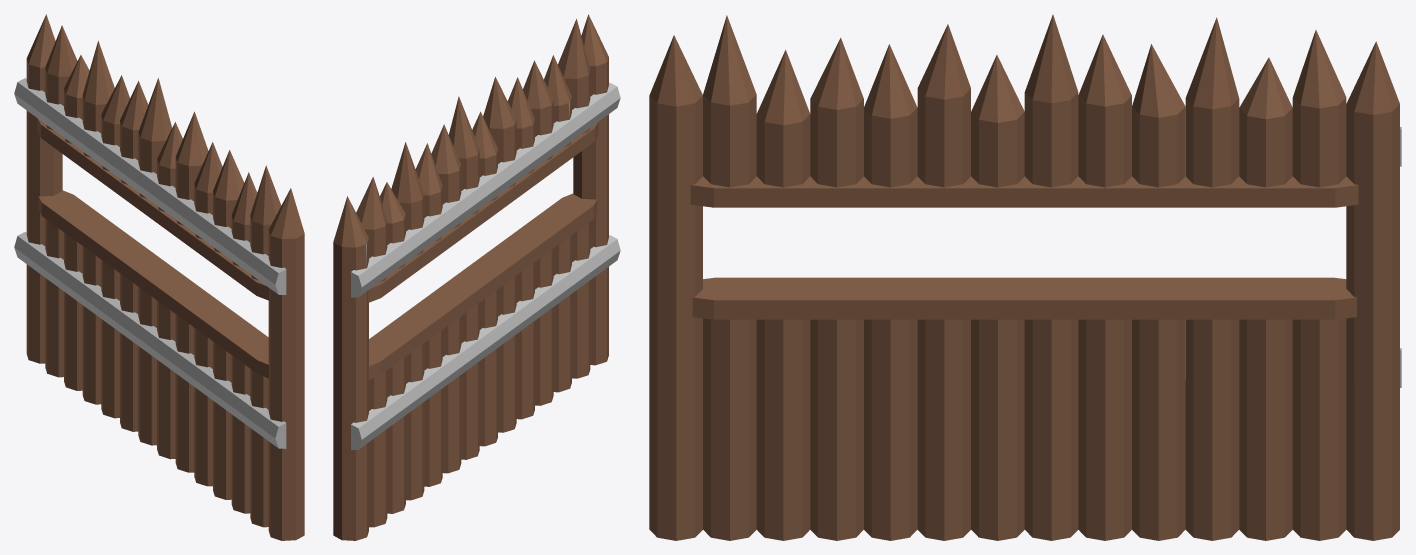
File: Defense_HalfWallModel.fbx
3 views of the same model, side by side, from view 1: azimuth 30°, elevation 25°; view 2: azimuth 150°, elevation 25°; view 3: azimuth 270°, elevation 25° (orthographic). The views are drawn at different scales.
Parts seen in each view (by area): view 1: Cylinder, Cube.001; view 2: Cylinder, Cube.001; view 3: Cylinder.
Boxes of the visible parts, box(x1,y1,x2,y2) form: Cylinder: box(26, 14, 304, 540); Cube.001: box(14, 78, 286, 448); Cylinder: box(333, 14, 608, 540); Cube.001: box(351, 82, 620, 449); Cylinder: box(649, 14, 1399, 540).
Bounding box in the file's own units: 66.63 × 607 × 800.
